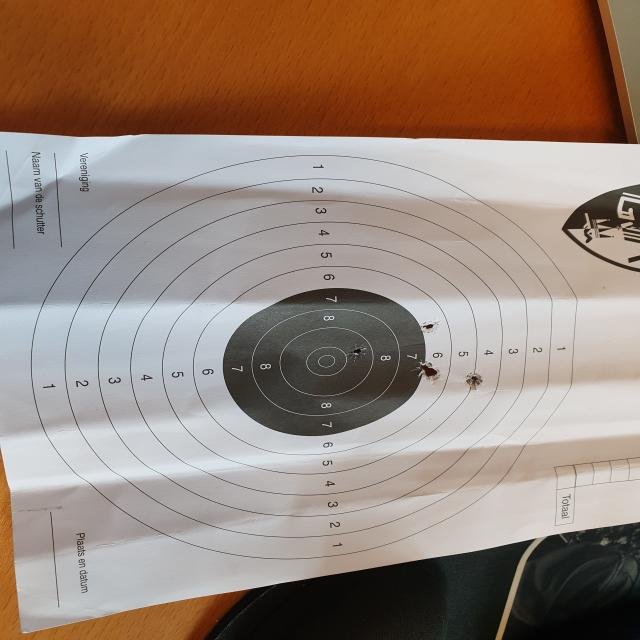5: (464, 372, 485, 387)
6: (422, 368, 442, 383)
7: (419, 319, 440, 335), (412, 357, 431, 373)
9: (347, 345, 370, 362)
Target: (28, 155, 575, 558)
black_contour: (223, 288, 427, 436)
